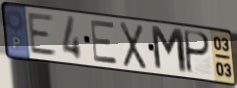4: (60, 14, 83, 63)
E: (26, 12, 59, 58), (89, 20, 120, 66)
M: (149, 24, 191, 77)
P: (184, 29, 212, 76)
X: (118, 20, 148, 71)
